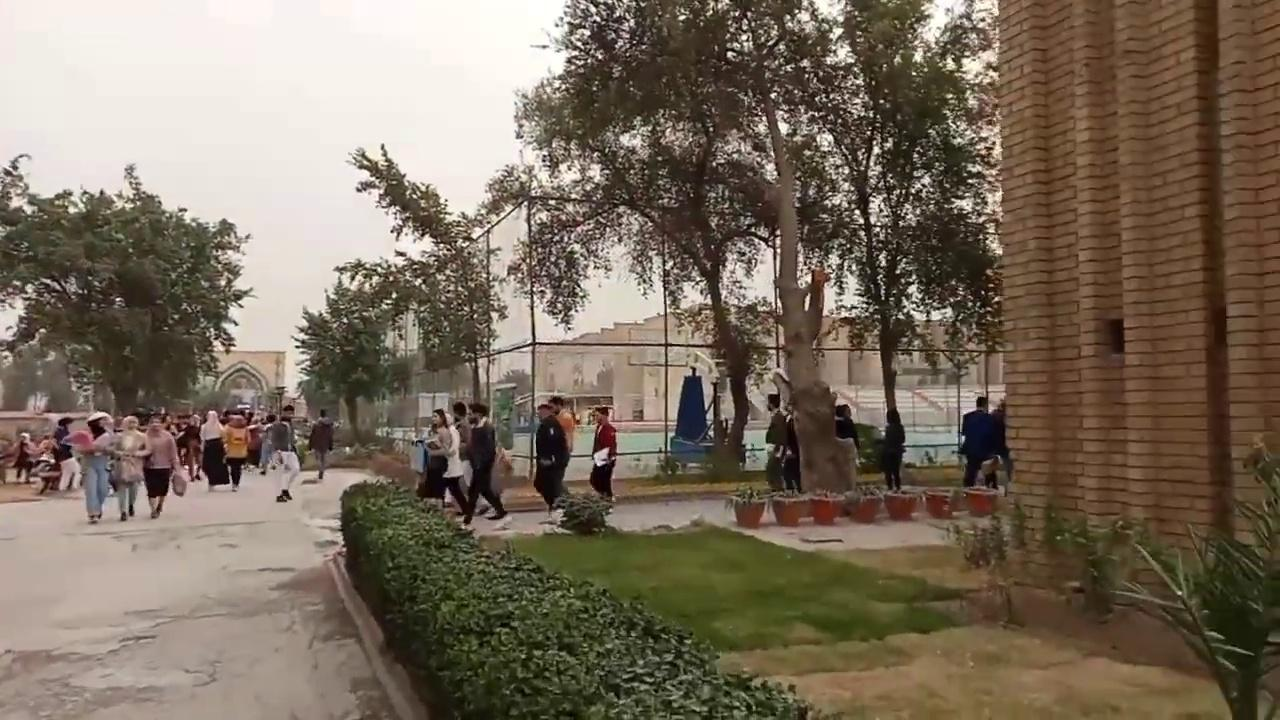person: (67, 402, 111, 527), (464, 401, 506, 524), (532, 403, 569, 522), (140, 411, 178, 519), (420, 402, 458, 506), (104, 408, 139, 517), (959, 395, 998, 488), (269, 411, 306, 504), (221, 412, 254, 497), (589, 405, 617, 502), (764, 392, 788, 492), (987, 397, 1012, 493), (776, 404, 801, 494), (881, 408, 905, 492), (307, 408, 334, 479), (204, 406, 226, 492), (12, 426, 41, 488), (834, 403, 860, 454)
tree: (457, 0, 812, 486), (787, 0, 1003, 487), (702, 0, 861, 494), (0, 153, 256, 420), (1041, 431, 1279, 718), (337, 141, 507, 415), (473, 170, 586, 481), (291, 278, 408, 455)
